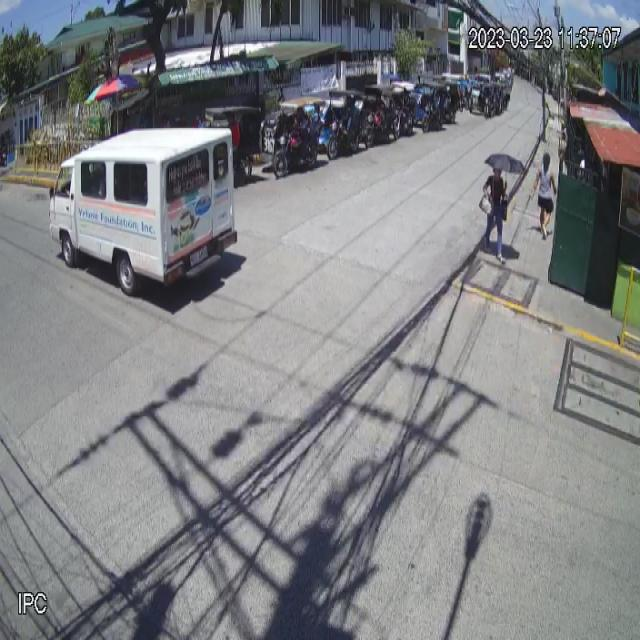Van: (48, 126, 237, 300)
